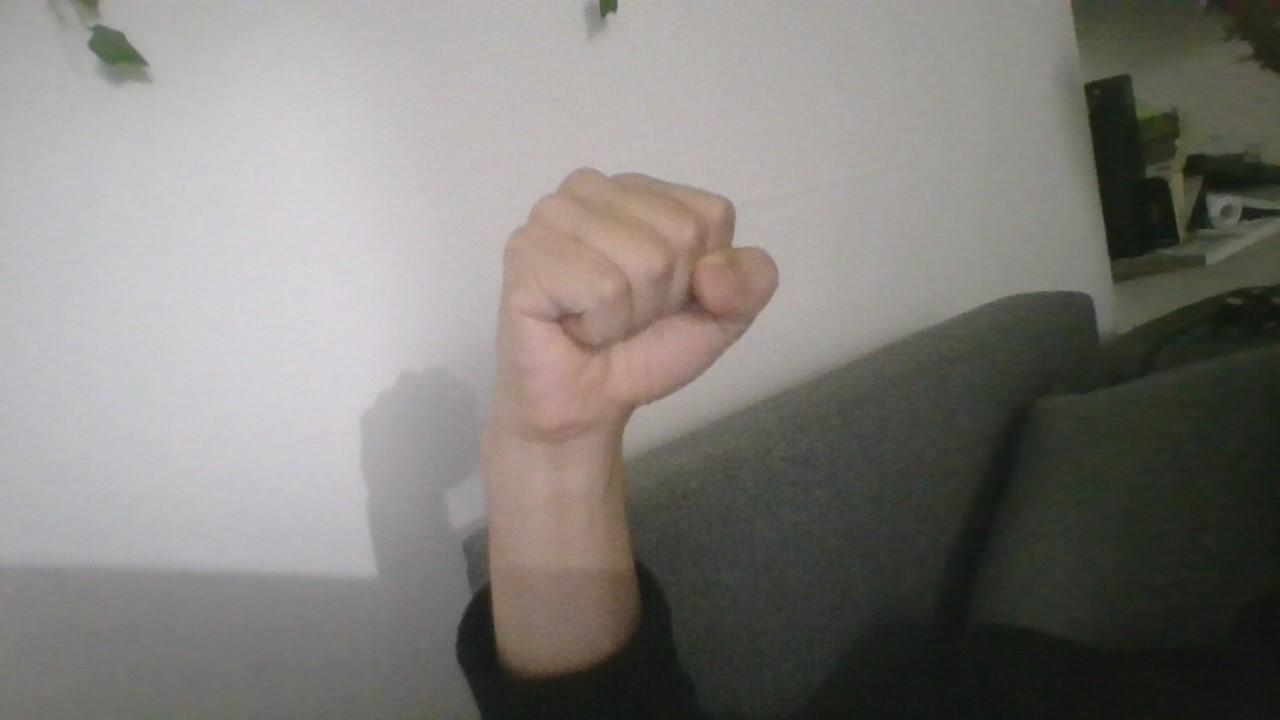stop: (476, 140, 789, 447)
